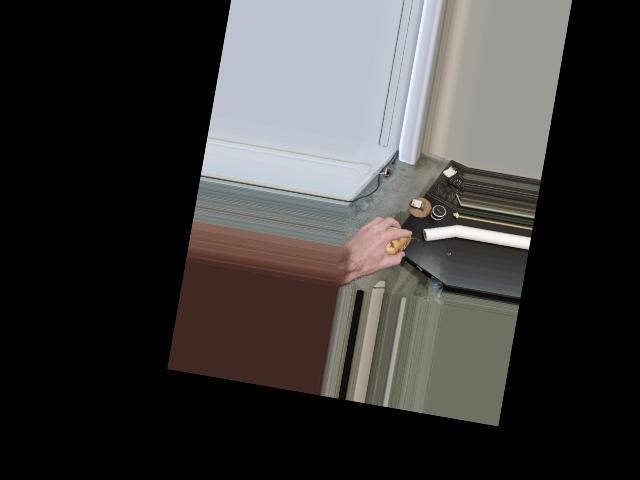onion: (364, 223, 414, 266)
